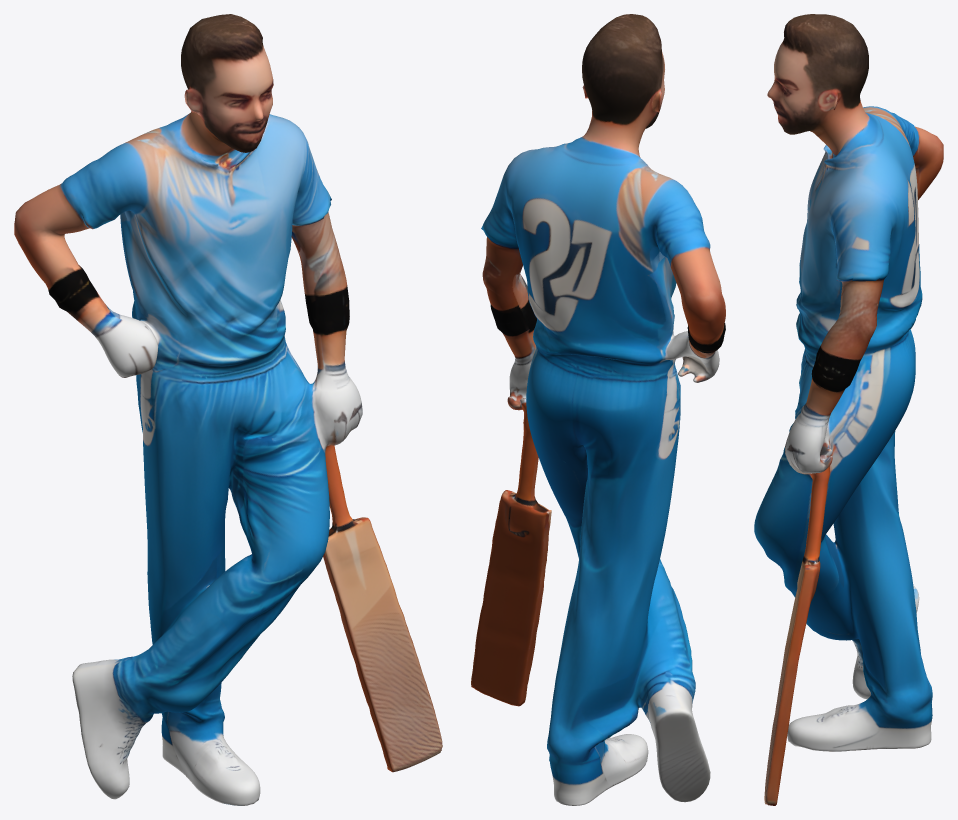
The model's file is non striker.glb.
The picture shows the model from 3 angles, left to right: view 1: azimuth 30°, elevation 25°; view 2: azimuth 150°, elevation 25°; view 3: azimuth 270°, elevation 25°; orthographic projection. The views are drawn at different scales.
Parts seen in each view (by area): view 1: Object_2; view 2: Object_2; view 3: Object_2.
Part boxes in pixels (x1,y1,x2,y2): Object_2: [14, 14, 442, 805]; Object_2: [471, 14, 725, 805]; Object_2: [754, 14, 943, 805].
Size of the model in its own units: 0.8718 by 1.9 by 0.4536.
1 material, 1 textured.
